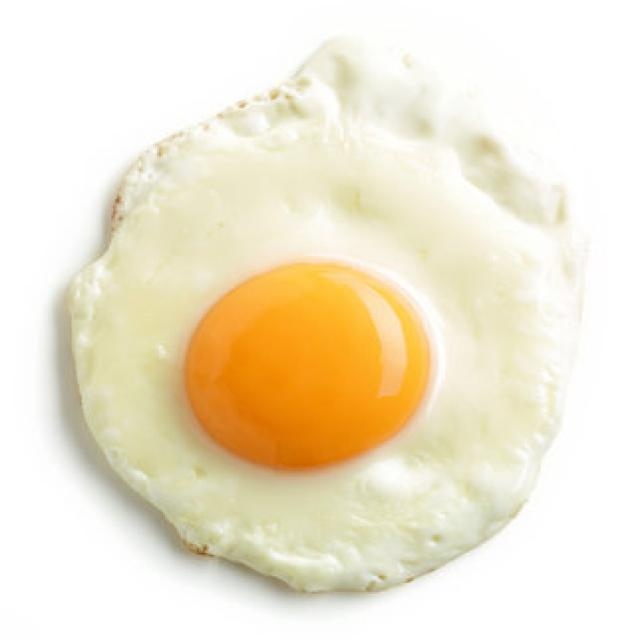Egg: (70, 39, 579, 591)
